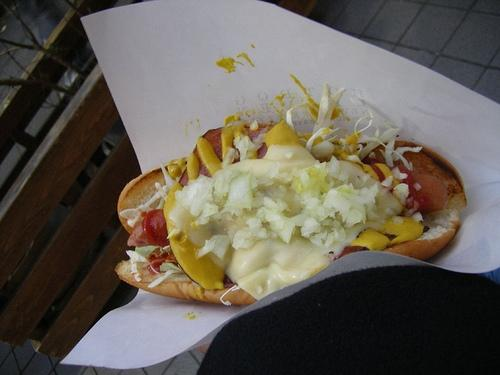onion: (224, 168, 254, 208), (189, 187, 211, 216), (323, 189, 353, 210), (290, 168, 310, 194), (202, 203, 218, 217), (319, 206, 333, 222), (252, 227, 267, 238), (265, 213, 281, 222), (322, 219, 332, 226)
